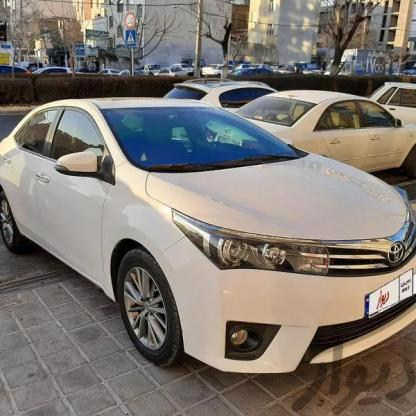Car: (0, 93, 416, 382), (233, 87, 416, 186), (170, 79, 259, 117), (29, 61, 76, 78), (200, 60, 232, 78), (0, 62, 32, 76), (231, 68, 273, 78), (136, 62, 164, 76), (157, 68, 189, 80), (96, 68, 129, 76)
